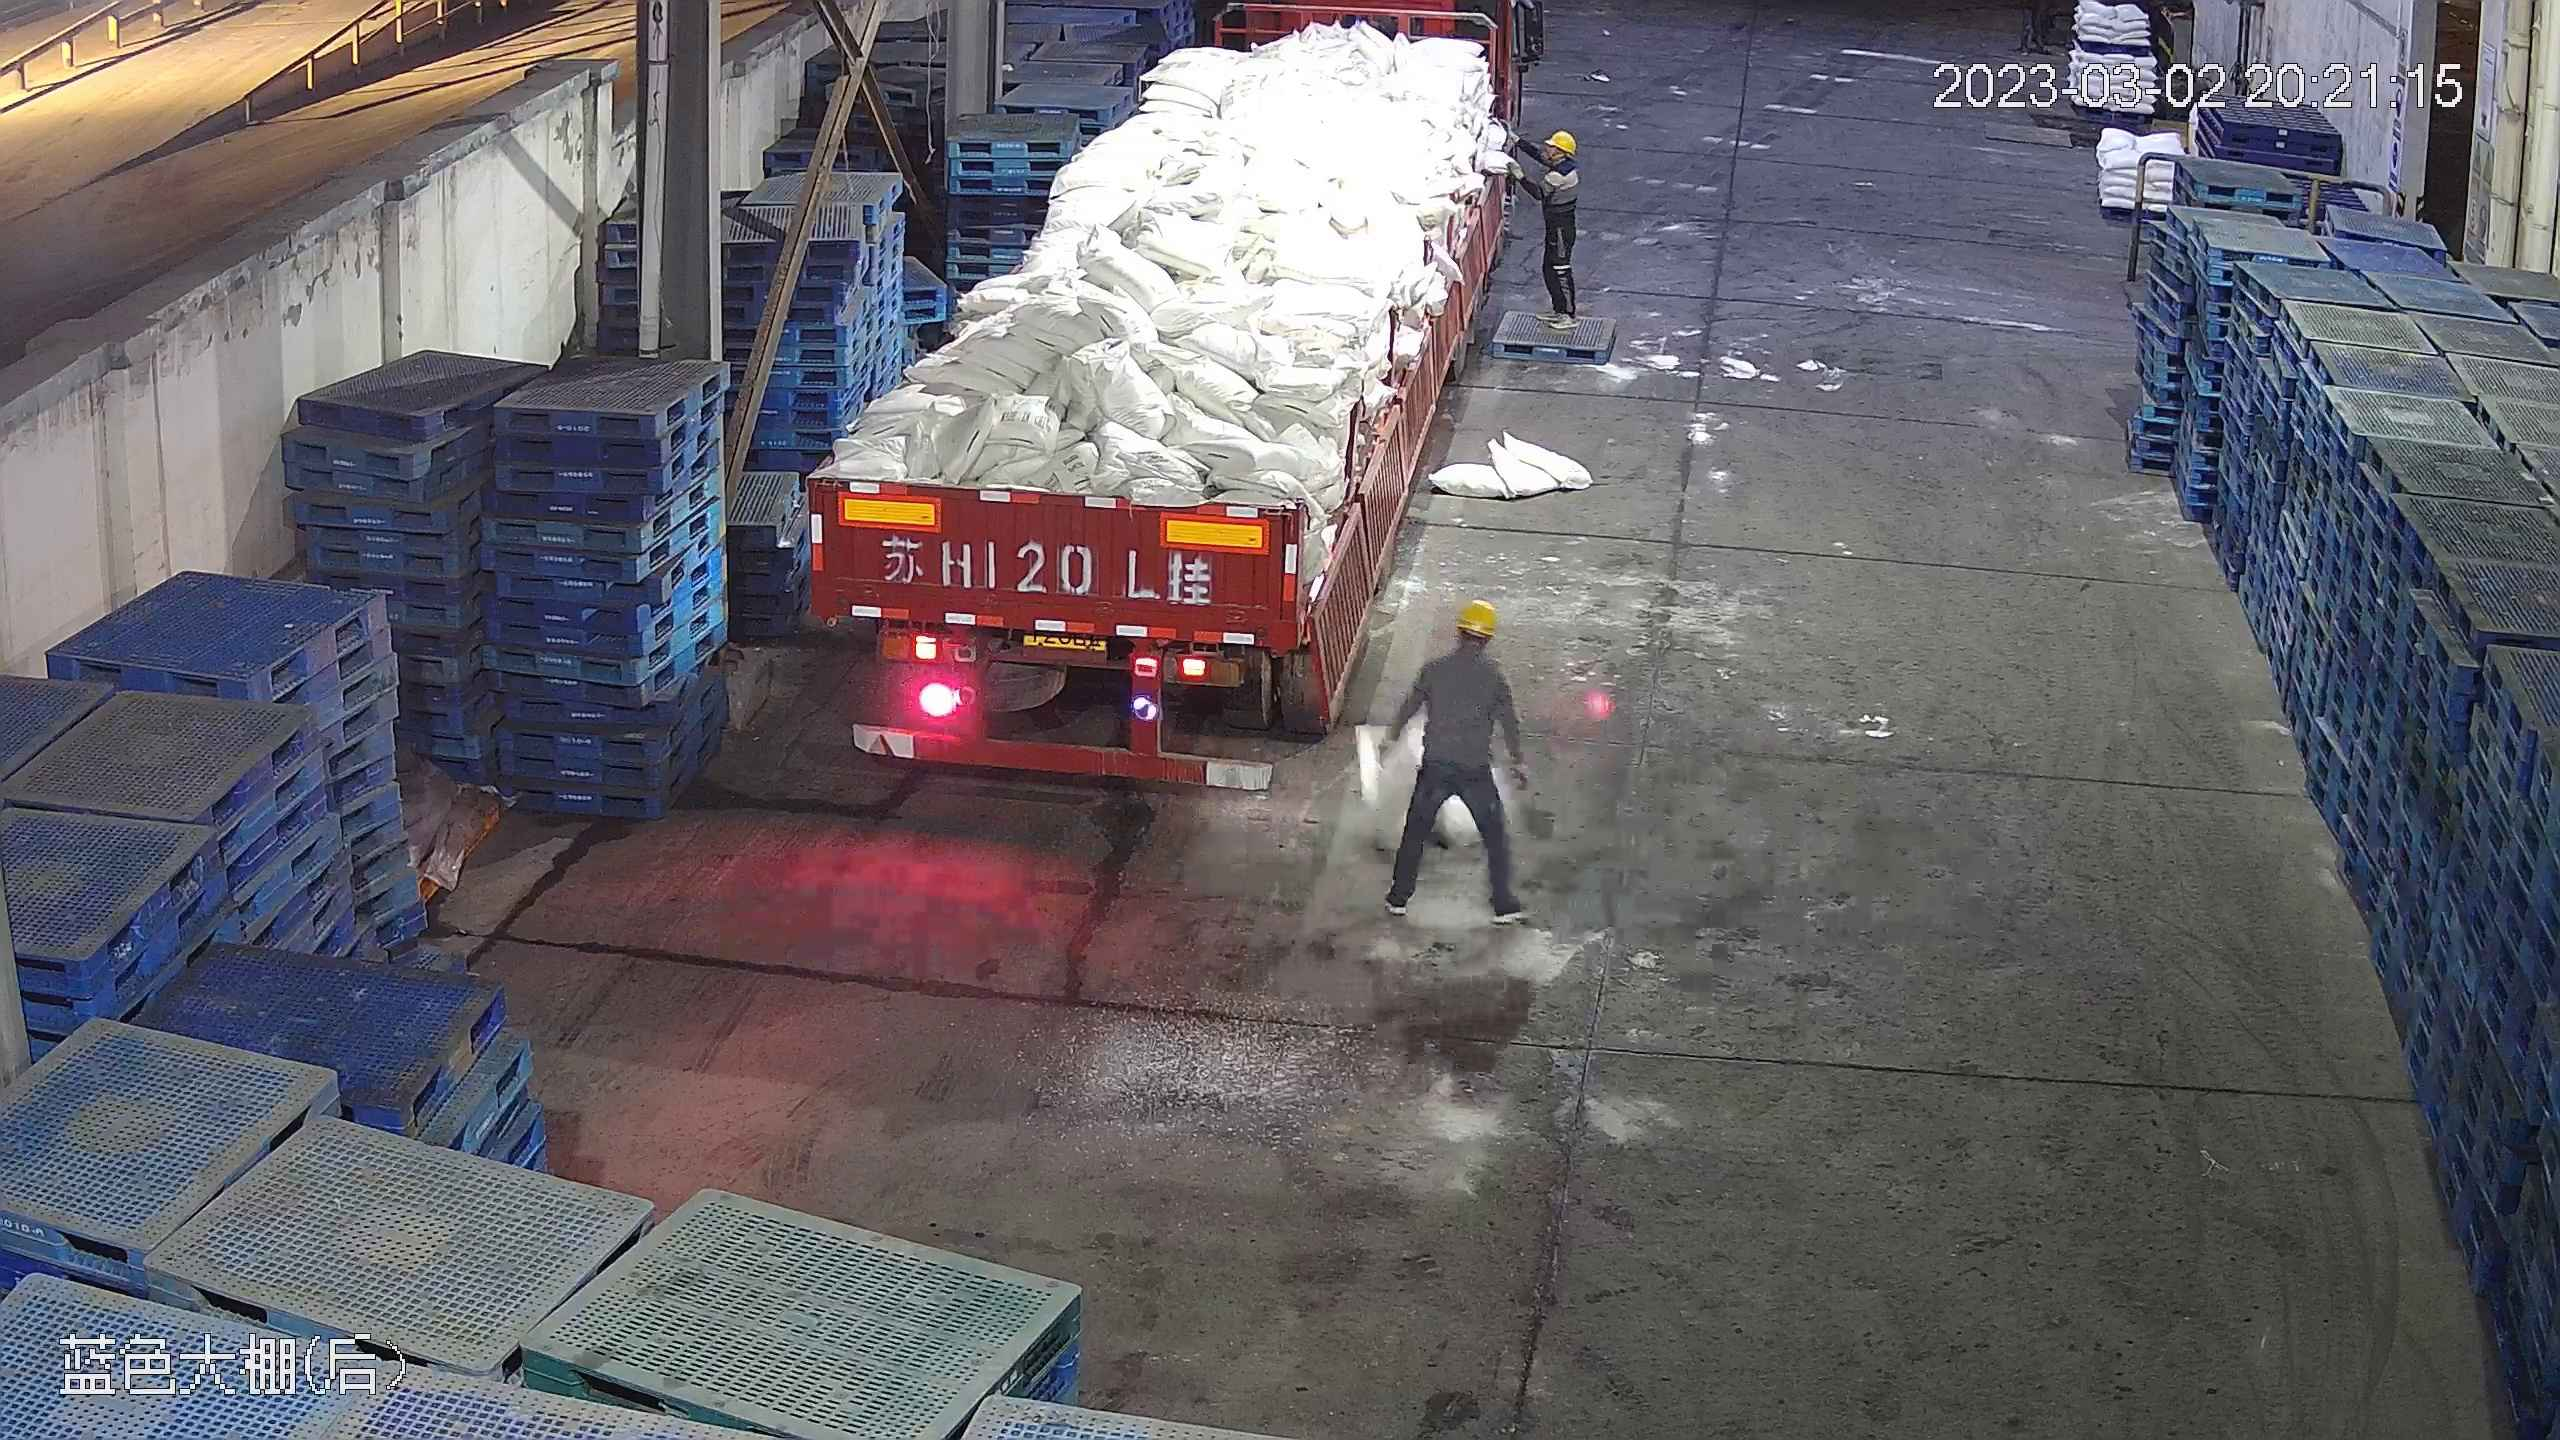head: (1417, 598, 1513, 699), (1536, 127, 1585, 184)
helmet: (1454, 598, 1500, 631), (1547, 130, 1576, 155)
people: (1377, 597, 1531, 926), (1522, 127, 1590, 327)
truck: (798, 8, 1531, 789)
